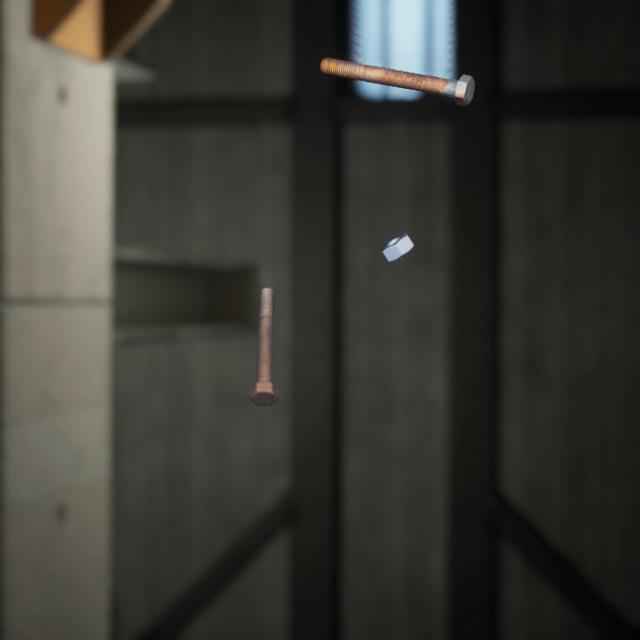bolt: (315, 44, 479, 100), (244, 264, 283, 391)
nut: (377, 213, 418, 251)
